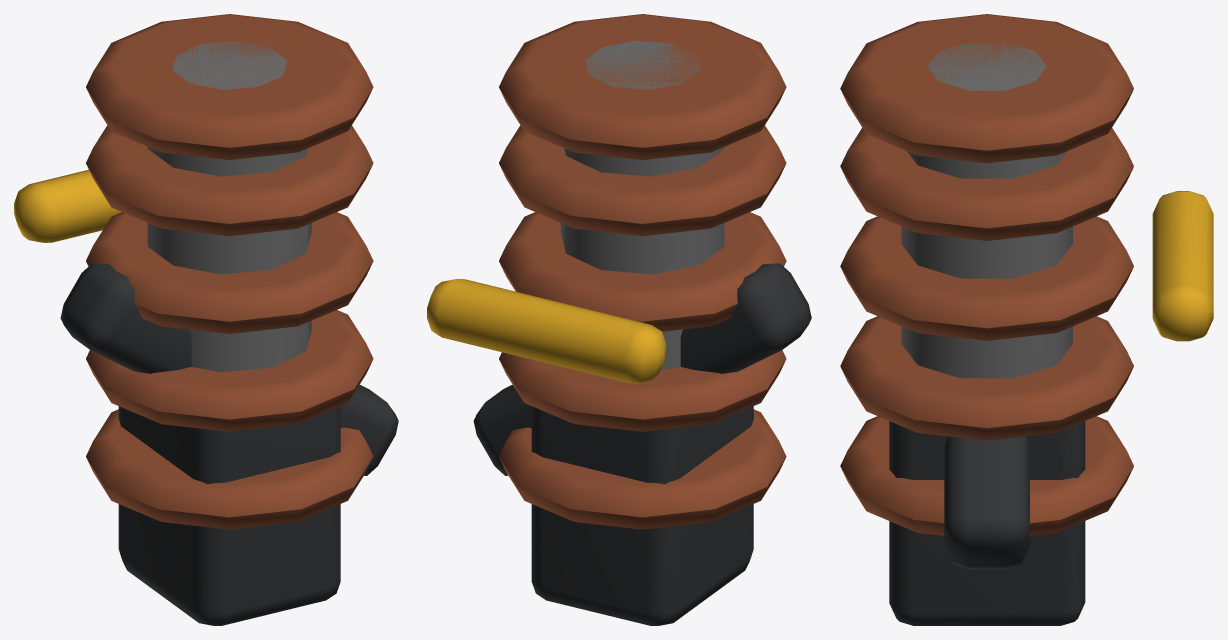
Rendered from suspension-steering.glb.
3 views of the same model, side by side, from view 1: azimuth 30°, elevation 25°; view 2: azimuth 150°, elevation 25°; view 3: azimuth 270°, elevation 25° (orthographic). The views are drawn at different scales.
Parts seen in each view (by area): view 1: suspension-steering; view 2: suspension-steering; view 3: suspension-steering.
Part boxes in pixels (x1,y1,x2,y2): suspension-steering: (14,14,398,625); suspension-steering: (427,14,811,625); suspension-steering: (840,14,1213,625).
Size of the model in its own units: 0.3023 by 0.48 by 0.305.
